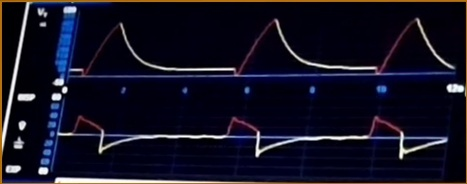Flow: (65, 100, 446, 170)
Leakage Volume: (75, 12, 454, 82)
